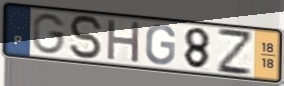8: (182, 26, 214, 72)
G: (31, 12, 68, 56), (143, 24, 177, 67)
H: (105, 18, 143, 65)
S: (68, 14, 106, 62)
Z: (215, 26, 254, 78)
